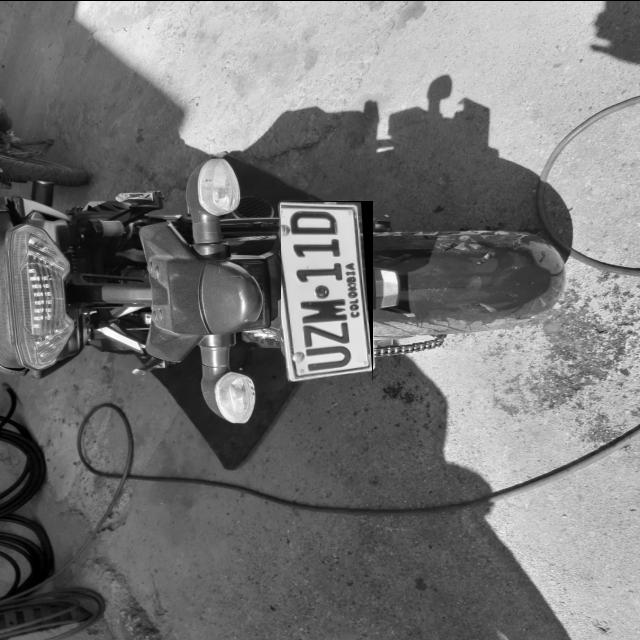plate: (282, 200, 374, 381)
